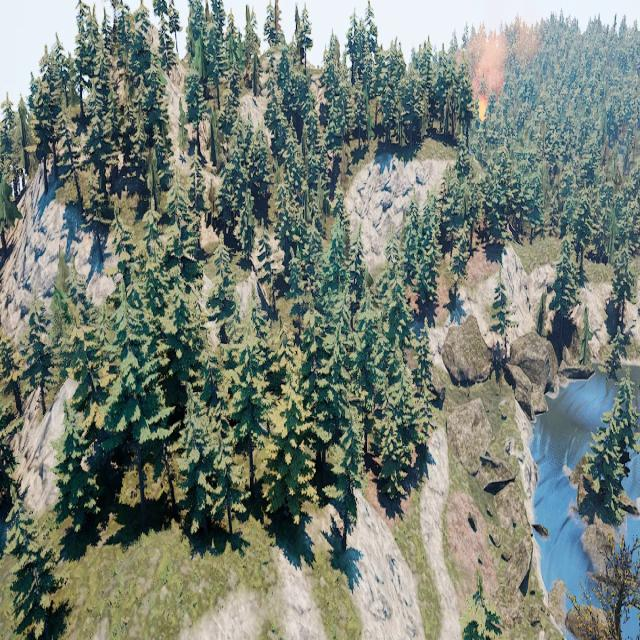fire: (478, 97, 489, 121)
smoke: (454, 1, 544, 99)
